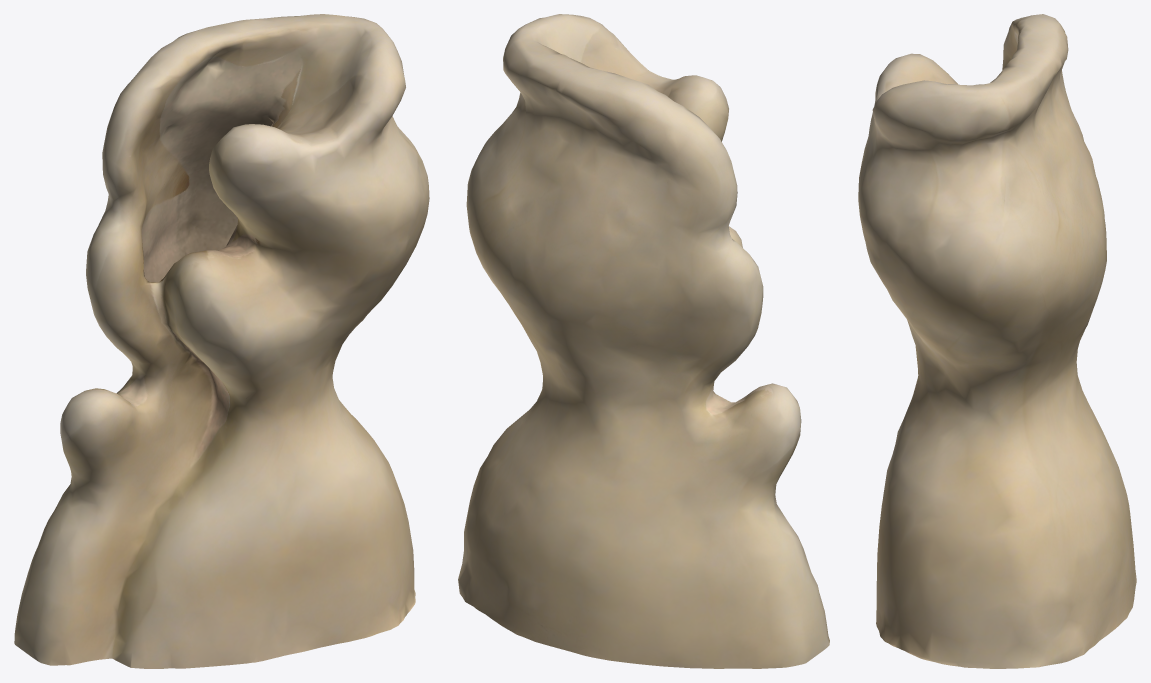
Rendered from Harmony_in_Form1.glb.
3 views of the same model, side by side, from view 1: azimuth 30°, elevation 25°; view 2: azimuth 150°, elevation 25°; view 3: azimuth 270°, elevation 25° (orthographic). The views are drawn at different scales.
Parts seen in each view (by area): view 1: Mesh_0; view 2: Mesh_0; view 3: Mesh_0.
Part boxes in pixels (x1,y1,x2,y2): Mesh_0: (14, 14, 429, 668); Mesh_0: (458, 14, 829, 668); Mesh_0: (858, 14, 1136, 668).
Bounding box in the file's own units: 1.26 × 1.81 × 0.8141.
1 material, 1 textured.
